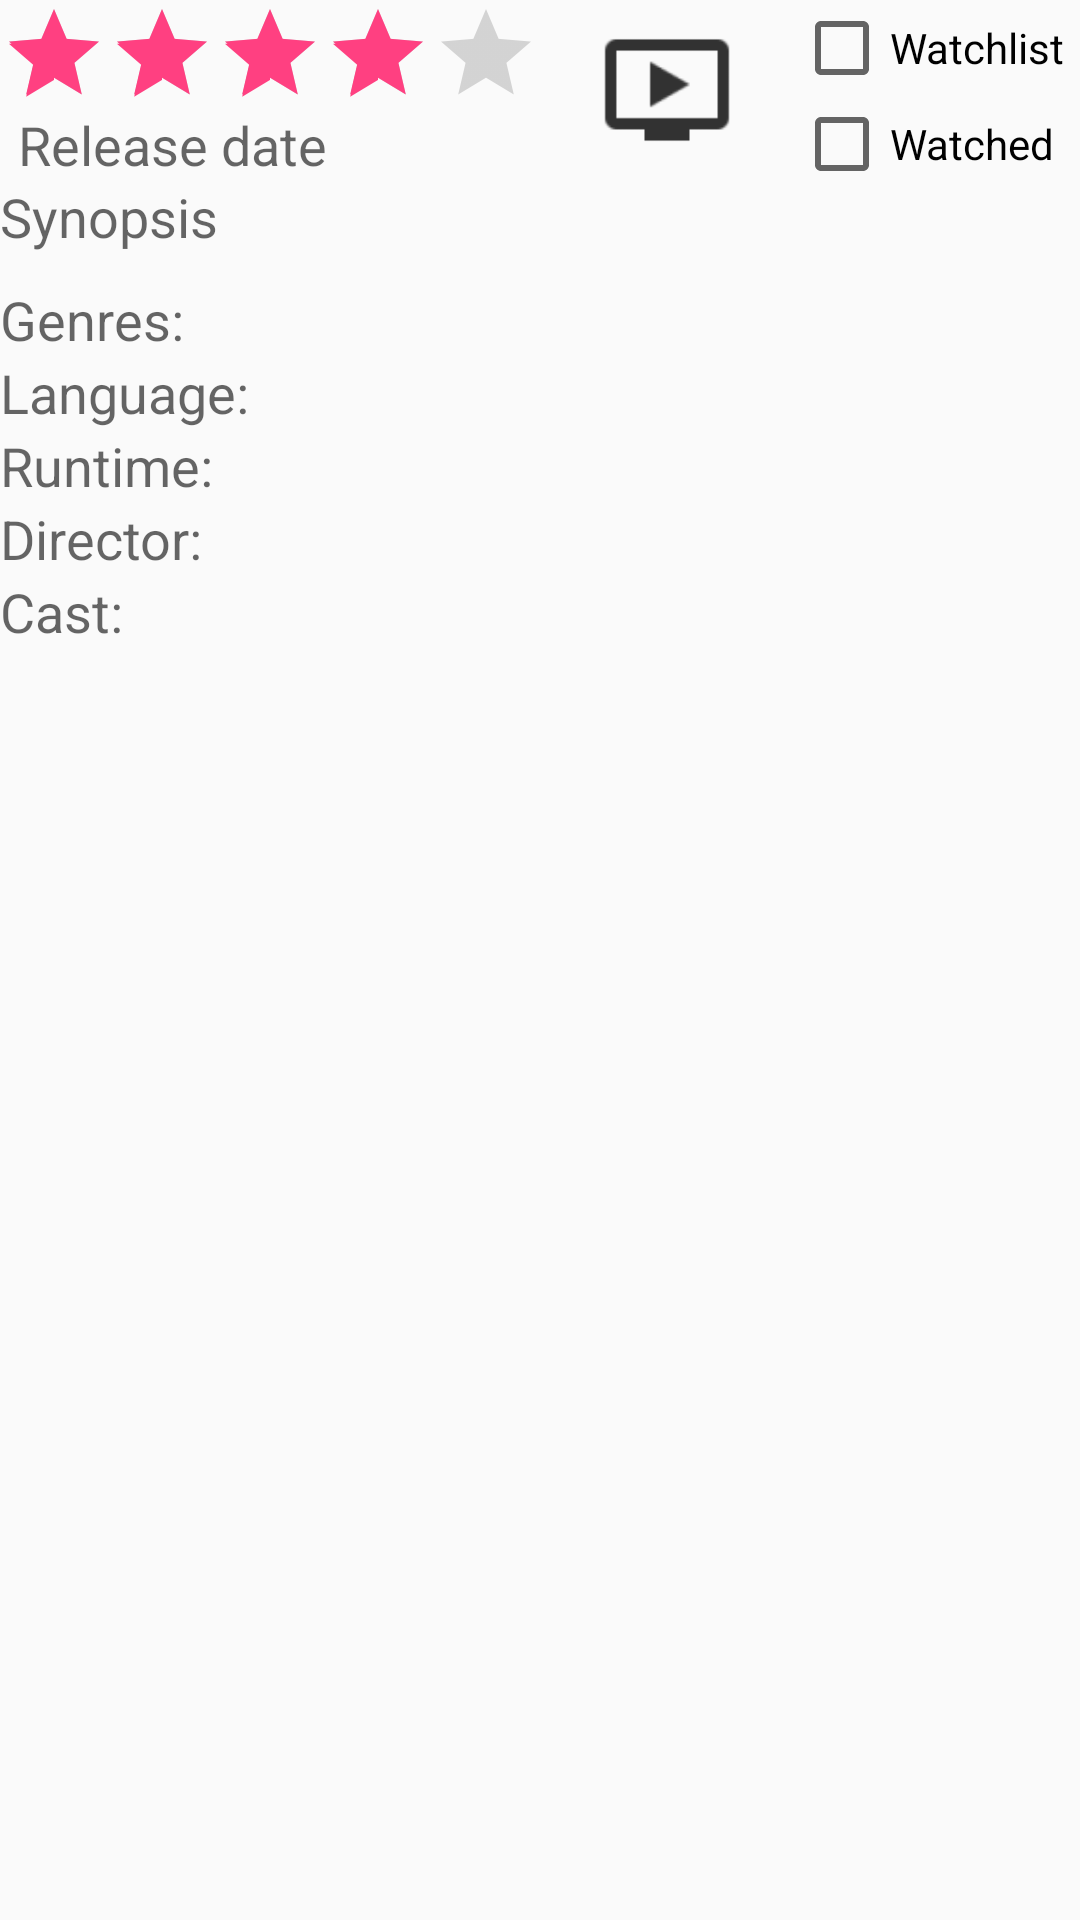

Named icons in this screenshot (1080×1920) and their centers, (x,y):
See trailer: (667,90)
